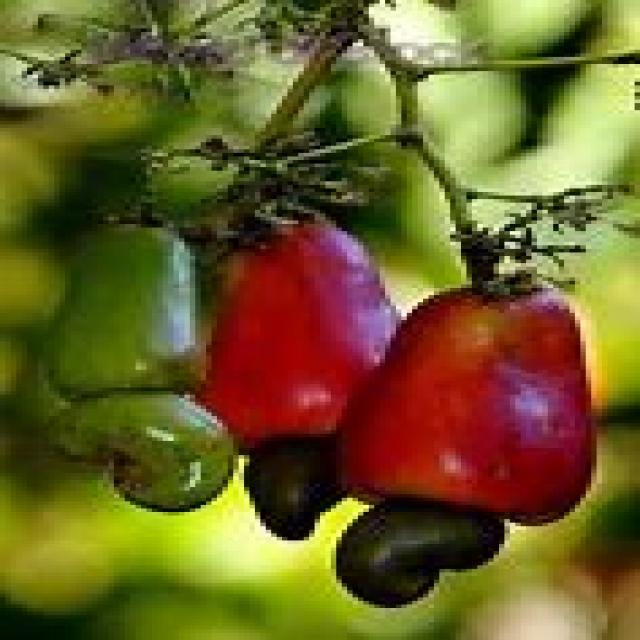Cashew: (342, 488, 507, 628), (54, 394, 245, 499), (233, 438, 354, 529)
